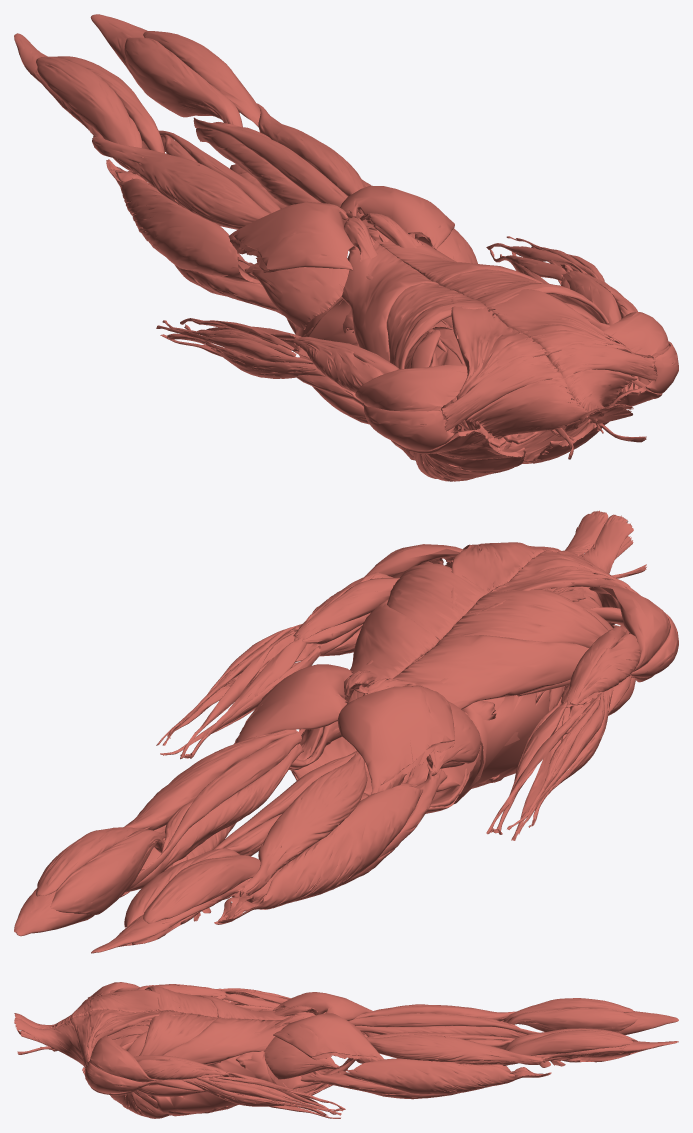
Rendered from anatomy-treethenics-pruned.glb.
3 renders of one model, top to bottom at view 1: azimuth 30°, elevation 25°; view 2: azimuth 150°, elevation 25°; view 3: azimuth 270°, elevation 25°, orthographic. The views are drawn at different scales.
Parts seen in each view (by area): view 1: right latissimus dorsi, right gluteus maximus, right vastus lateralis, long head of right biceps femoris, left latissimus dorsi, medial head of left gastrocnemius, descending part of right trapezius, lateral head of right gastrocnemius, ascending part of left trapezius, ascending part of right trapezius, spinal part of right deltoid, right gluteus medius (+36 smaller); view 2: right latissimus dorsi, left latissimus dorsi, right gluteus maximus, right vastus lateralis, long head of right biceps femoris, left gluteus maximus, medial head of left gastrocnemius, right external oblique, left semimembranosus, lateral head of right gastrocnemius, long head of left biceps femoris, left semitendinosus (+36 smaller); view 3: left latissimus dorsi, left vastus lateralis, left gluteus maximus, long head of left biceps femoris, medial head of right gastrocnemius, left external oblique, right latissimus dorsi, lateral head of left gastrocnemius, right semitendinosus, left gluteus medius, spinal part of left deltoid, left rectus femoris (+38 smaller).
Boxes of the visible parts, bbox=[...] form: right latissimus dorsi: bbox=[341, 237, 488, 369]; right gluteus maximus: bbox=[228, 201, 356, 272]; right vastus lateralis: bbox=[106, 160, 260, 284]; long head of right biceps femoris: bbox=[92, 136, 270, 229]; left latissimus dorsi: bbox=[368, 227, 608, 324]; medial head of left gastrocnemius: bbox=[124, 37, 242, 127]; descending part of right trapezius: bbox=[466, 377, 608, 438]; lateral head of right gastrocnemius: bbox=[36, 56, 142, 174]; ascending part of left trapezius: bbox=[459, 289, 634, 356]; ascending part of right trapezius: bbox=[451, 293, 548, 399]; spinal part of right deltoid: bbox=[355, 365, 469, 411]; right gluteus medius: bbox=[245, 263, 349, 329]; right latissimus dorsi: bbox=[367, 589, 608, 709]; left latissimus dorsi: bbox=[350, 563, 488, 693]; right gluteus maximus: bbox=[338, 686, 454, 794]; right vastus lateralis: bbox=[218, 785, 422, 923]; long head of right biceps femoris: bbox=[240, 751, 367, 896]; left gluteus maximus: bbox=[234, 664, 352, 743]; medial head of left gastrocnemius: bbox=[50, 829, 164, 914]; right external oblique: bbox=[453, 689, 561, 804]; left semimembranosus: bbox=[125, 743, 303, 892]; lateral head of right gastrocnemius: bbox=[143, 855, 260, 923]; long head of left biceps femoris: bbox=[123, 729, 296, 830]; left semitendinosus: bbox=[126, 731, 301, 890]; left latissimus dorsi: bbox=[139, 1010, 287, 1065]; left vastus lateralis: bbox=[338, 1058, 549, 1094]; left gluteus maximus: bbox=[273, 1013, 384, 1063]; long head of left biceps femoris: bbox=[366, 1034, 545, 1064]; medial head of right gastrocnemius: bbox=[507, 1008, 637, 1032]; left external oblique: bbox=[151, 1050, 325, 1116]; right latissimus dorsi: bbox=[145, 985, 291, 1019]; lateral head of left gastrocnemius: bbox=[503, 1030, 633, 1065]; right semitendinosus: bbox=[349, 1013, 538, 1034]; left gluteus medius: bbox=[264, 1036, 336, 1079]; spinal part of left deltoid: bbox=[89, 1035, 157, 1082]; left rectus femoris: bbox=[300, 1067, 551, 1099].
Size of the model in its own units: 561 by 244 by 1474.
